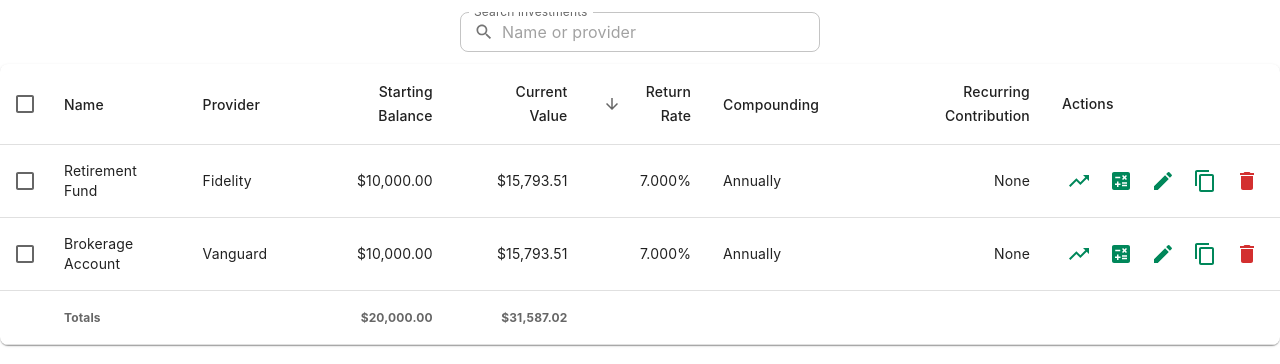
Test: InvestmentTable (roadmap 6.4) › shows a no-match message when the query matches nothing
The width and height of the screenshot is (1280, 364).
Type "zzz" into the field labelled "Search investments" at {"x": 661, "y": 32}, box [502,12,820,52]
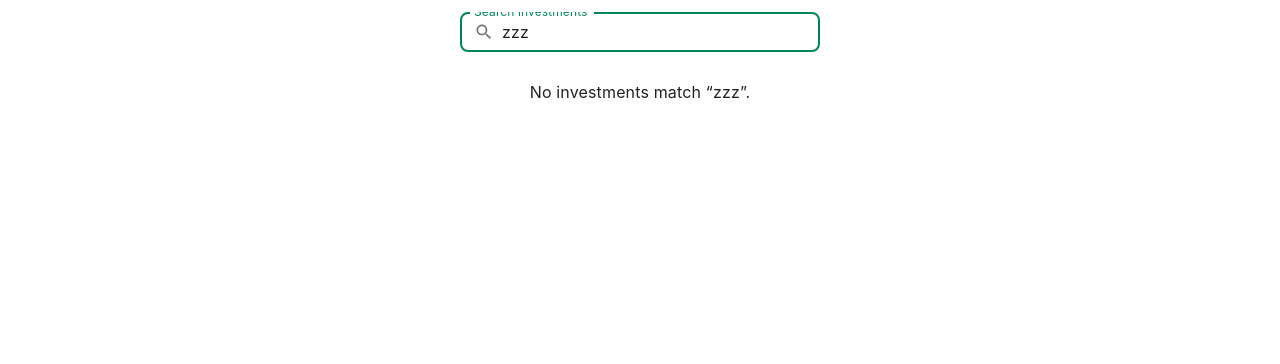
expect the text "No investments match “zzz”." is shown: met, box [530,82,750,102]
